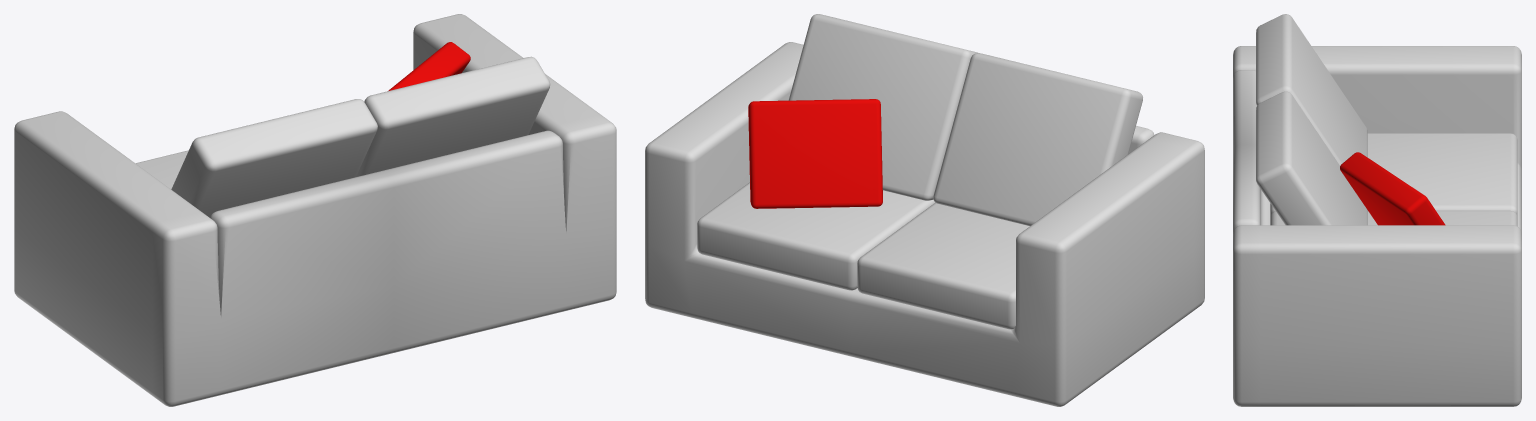
File: untitled(pruebaesto).glb
3 views of the same model, side by side, from view 1: azimuth 30°, elevation 25°; view 2: azimuth 150°, elevation 25°; view 3: azimuth 270°, elevation 25° (orthographic). The views are drawn at different scales.
Size of the model in its own units: 3.26 by 1.64 by 1.96.
